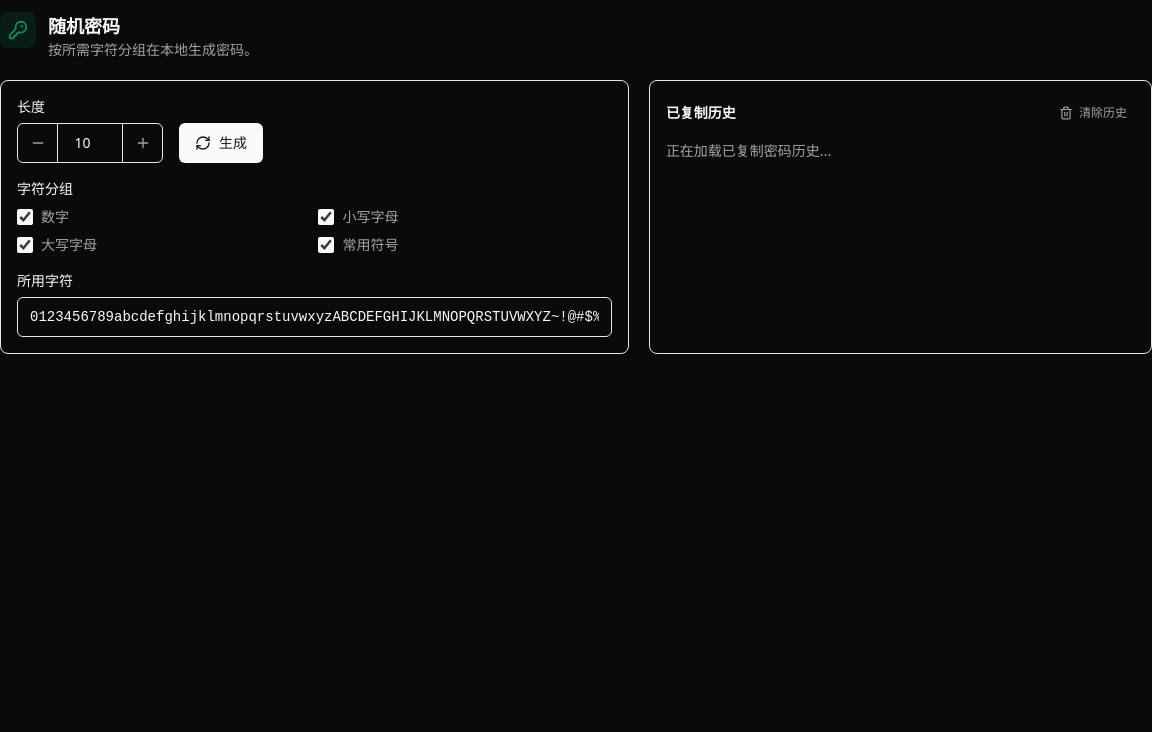
Test case: RandomPasswordTool › generates exactly nine passwords using the selected character groups
Replace the text in the number field with "4": (90, 143) x1=58 y1=124 x2=122 y2=162
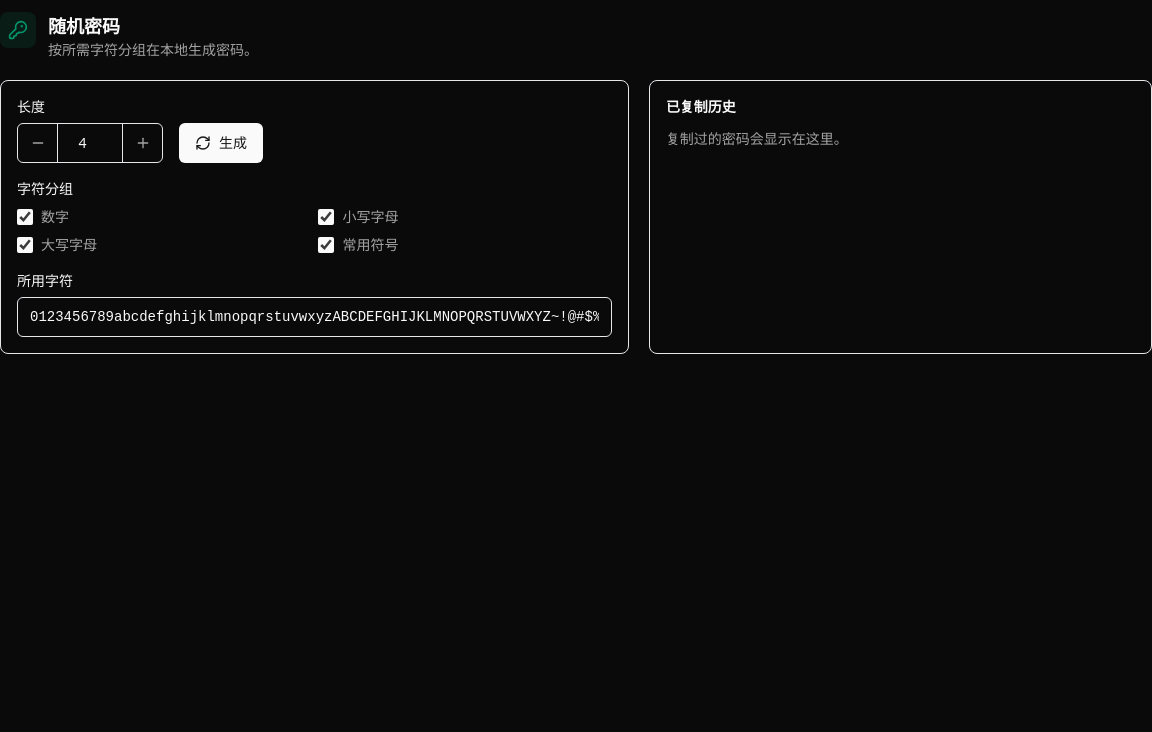
Click the checkbox labelled "小写字母": click(326, 217) x1=318 y1=209 x2=334 y2=225
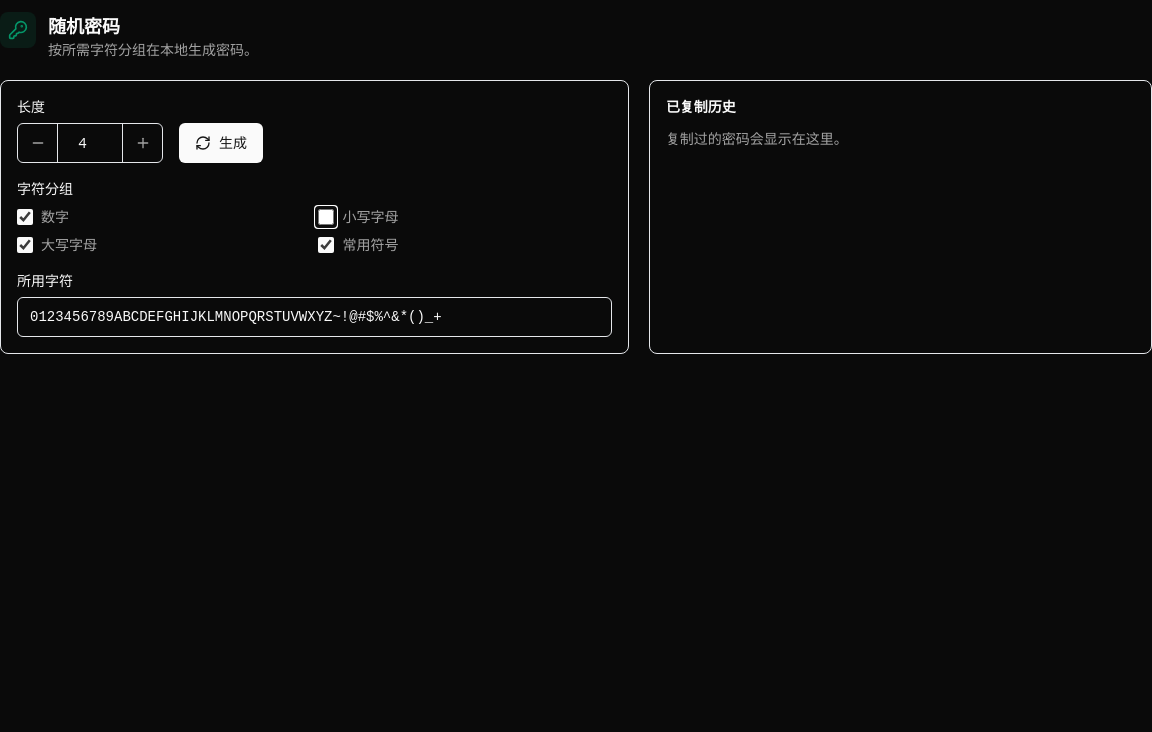
Click the checkbox labelled "大写字母": click(25, 245) x1=17 y1=237 x2=33 y2=253
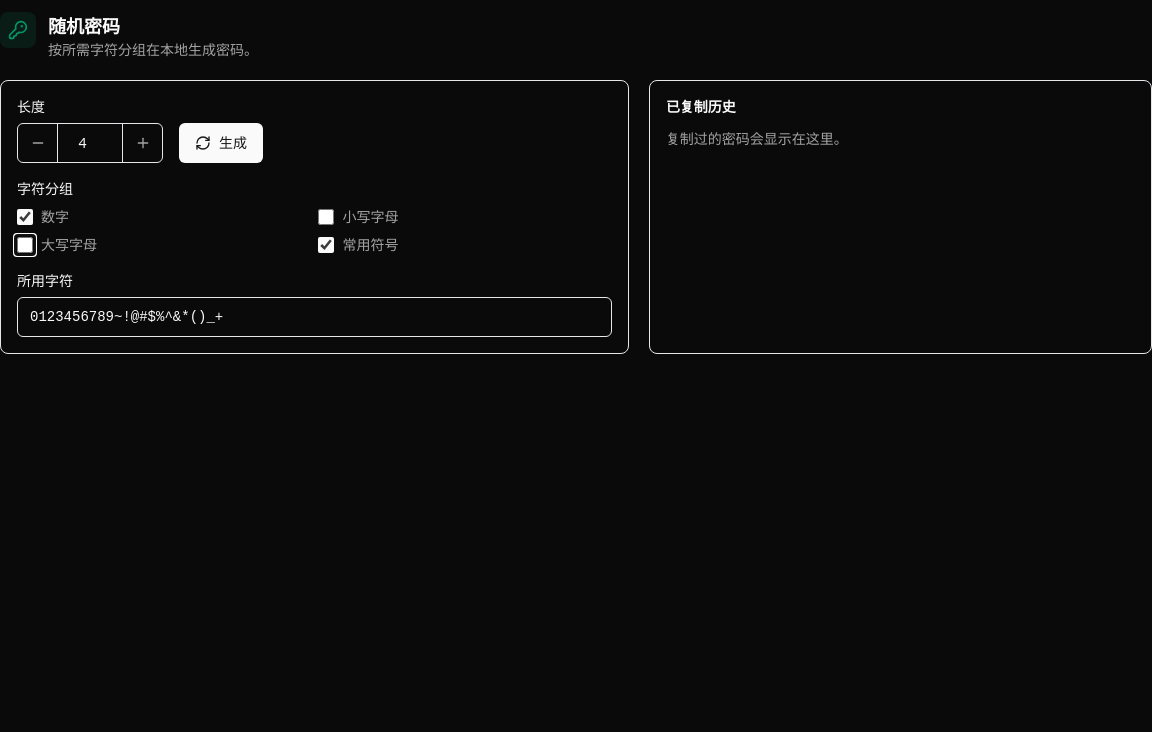
Click the checkbox labelled "常用符号": click(326, 245) x1=318 y1=237 x2=334 y2=253
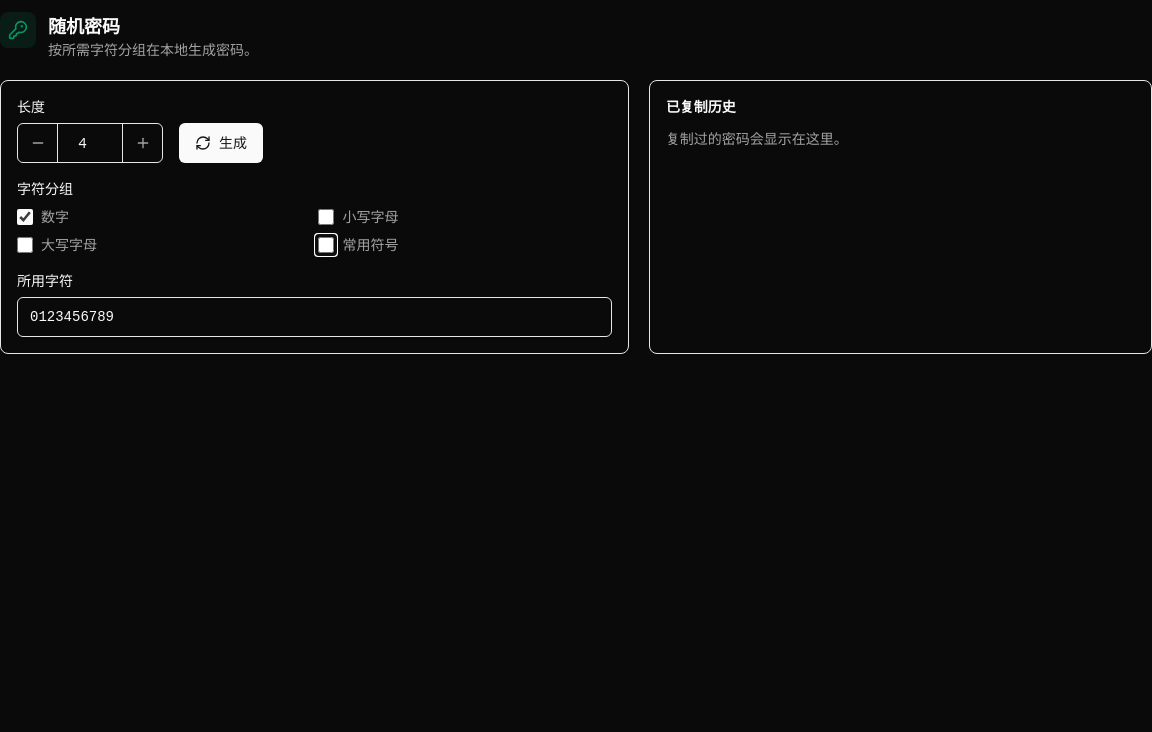
Click the button "生成": click(221, 143) x1=179 y1=123 x2=263 y2=163
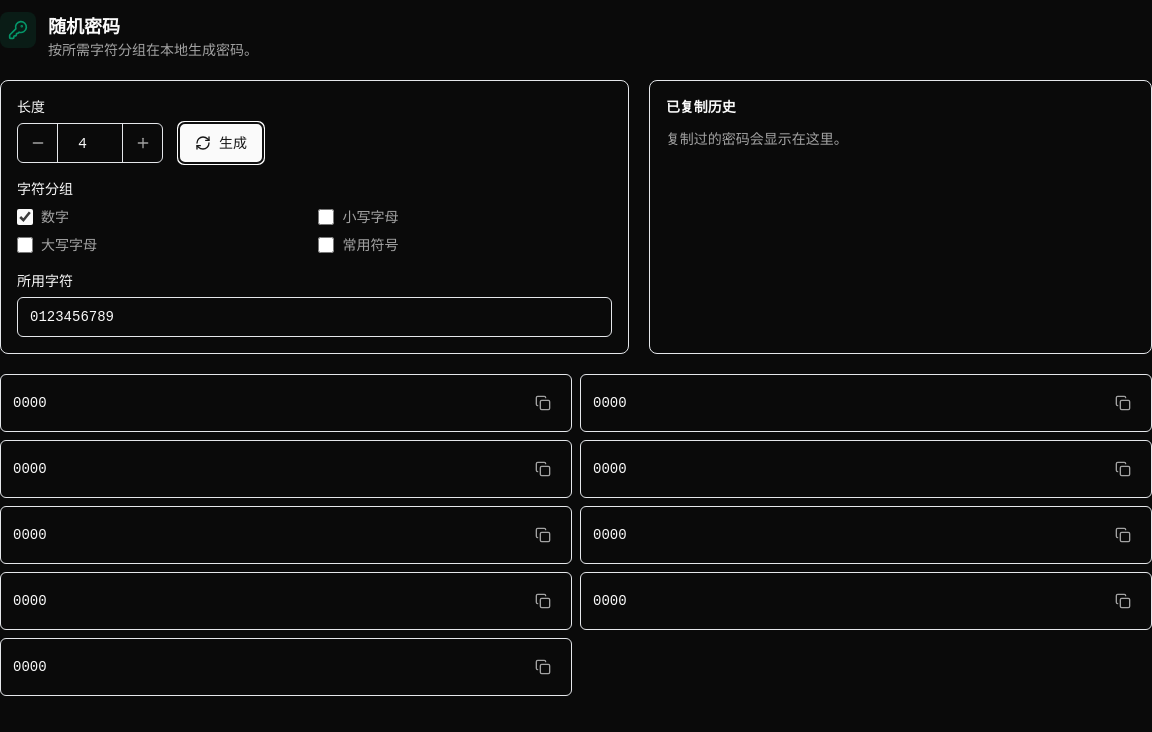
Check: the field labelled "所用字符" holds "0123456789", box x1=17 y1=297 x2=612 y2=337
Check: the number of elements with test id "generated-password" is 9
